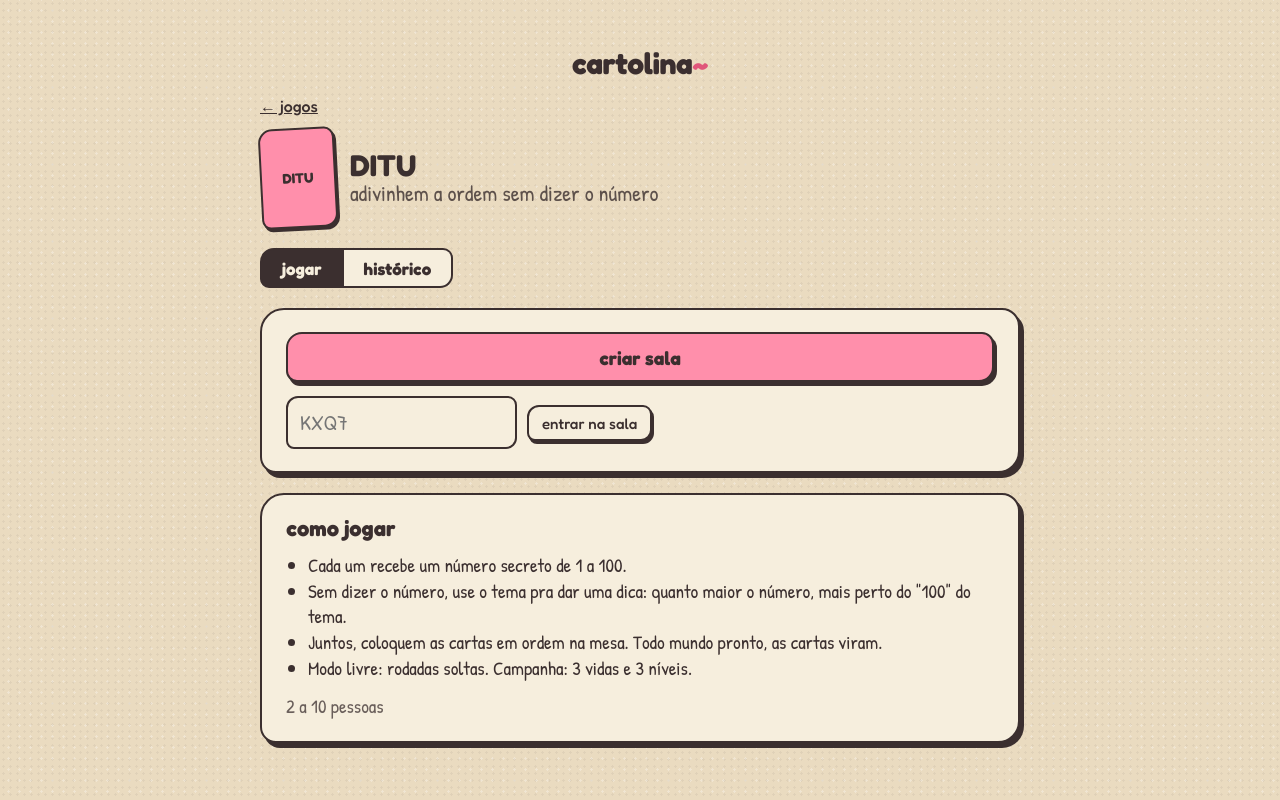
it: GamePage › aba jogar › falha ao criar sala: mensagem perto do botão, que continua lá
Click the button "criar sala" at {"x": 640, "y": 357}, box [286, 332, 994, 382]
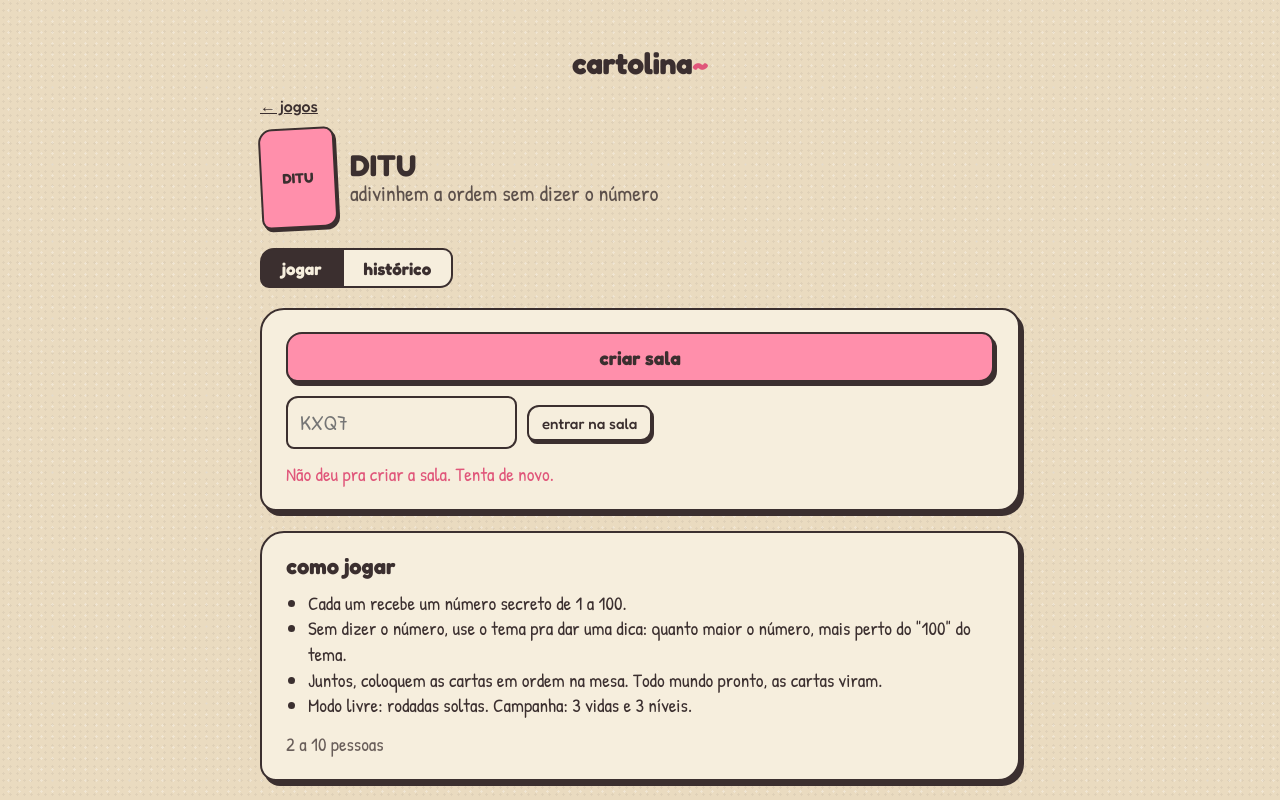
Check: the text "Não deu pra criar a sala. Tenta de novo." is shown, box [286, 461, 554, 487]
